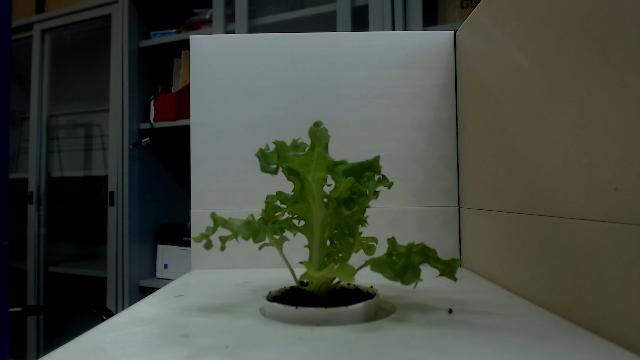Vegetative Stage: (193, 120, 463, 296)
